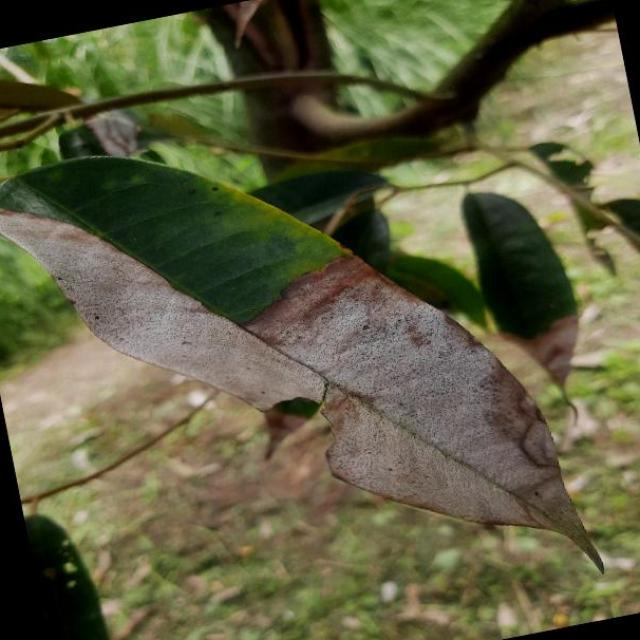Leaf Blight: (0, 59, 616, 640)
